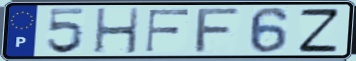5: (45, 6, 86, 56)
6: (249, 6, 291, 55)
F: (192, 7, 244, 54), (143, 8, 192, 54)
H: (93, 6, 141, 55)
Z: (297, 7, 341, 54)
